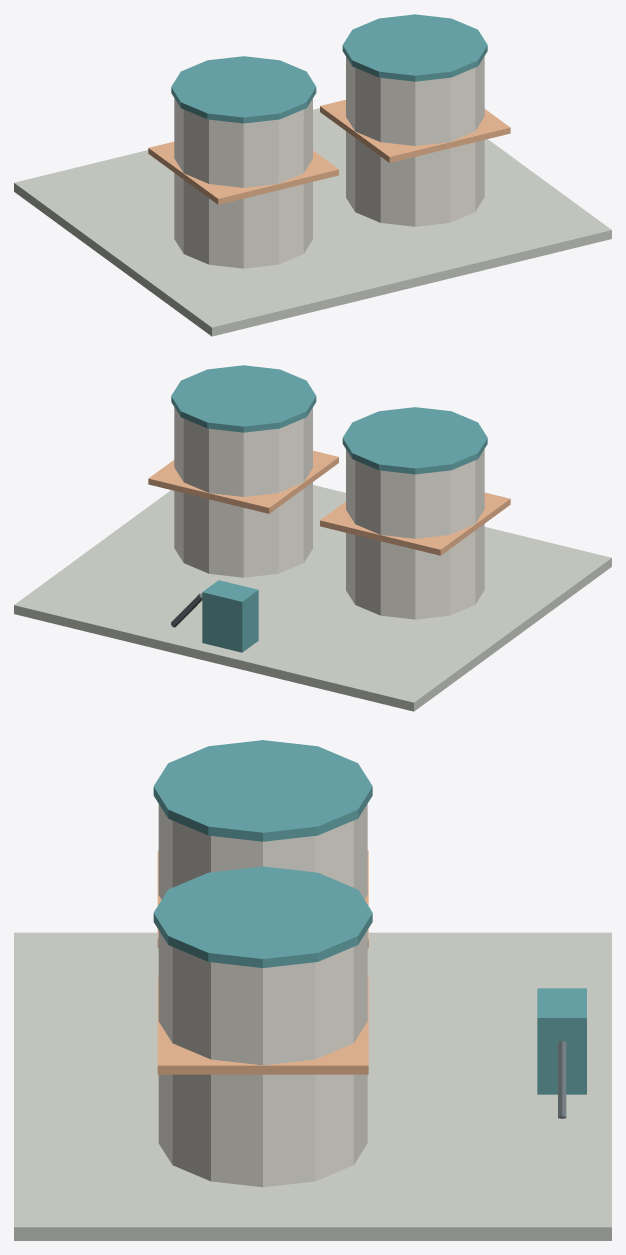
The model's file is fuel_depot.glb.
3 renders of one model, top to bottom at view 1: azimuth 30°, elevation 25°; view 2: azimuth 150°, elevation 25°; view 3: azimuth 270°, elevation 25°, orthographic. The views are drawn at different scales.
Parts seen in each view (by area): view 1: fuel_depot__pad, fuel_depot__fuel_tank, fuel_depot__fuel_tank.001, fuel_depot__tank_cap.001, fuel_depot__tank_cap, fuel_depot__warning_band, fuel_depot__warning_band.001; view 2: fuel_depot__pad, fuel_depot__fuel_tank, fuel_depot__fuel_tank.001, fuel_depot__tank_cap, fuel_depot__tank_cap.001, fuel_depot__pump, fuel_depot__warning_band, fuel_depot__warning_band.001; view 3: fuel_depot__pad, fuel_depot__fuel_tank.001, fuel_depot__tank_cap.001, fuel_depot__tank_cap, fuel_depot__fuel_tank, fuel_depot__pump, fuel_depot__warning_band.001, fuel_depot__hose.
Boxes of the visible parts, <box> form: fuel_depot__pad: <box>14,108,611,336</box>; fuel_depot__fuel_tank: <box>174,98,312,268</box>; fuel_depot__fuel_tank.001: <box>346,56,484,226</box>; fuel_depot__tank_cap.001: <box>342,14,487,81</box>; fuel_depot__tank_cap: <box>171,56,316,123</box>; fuel_depot__warning_band: <box>148,141,338,204</box>; fuel_depot__warning_band.001: <box>320,99,510,162</box>; fuel_depot__pad: <box>14,485,611,711</box>; fuel_depot__fuel_tank: <box>346,449,484,619</box>; fuel_depot__fuel_tank.001: <box>174,407,312,577</box>; fuel_depot__tank_cap: <box>342,407,487,474</box>; fuel_depot__tank_cap.001: <box>171,365,316,432</box>; fuel_depot__pump: <box>202,580,258,652</box>; fuel_depot__warning_band: <box>320,492,510,555</box>; fuel_depot__warning_band.001: <box>148,450,338,513</box>; fuel_depot__pad: <box>14,932,611,1240</box>; fuel_depot__fuel_tank.001: <box>158,930,367,1187</box>; fuel_depot__tank_cap.001: <box>153,866,372,967</box>; fuel_depot__tank_cap: <box>153,740,372,841</box>; fuel_depot__fuel_tank: <box>158,804,367,899</box>; fuel_depot__pump: <box>537,988,586,1094</box>; fuel_depot__warning_band.001: <box>157,976,368,1074</box>; fuel_depot__hose: <box>558,1041,566,1118</box>.
Bounding box in the file's own units: 14 × 5.4 × 12.
